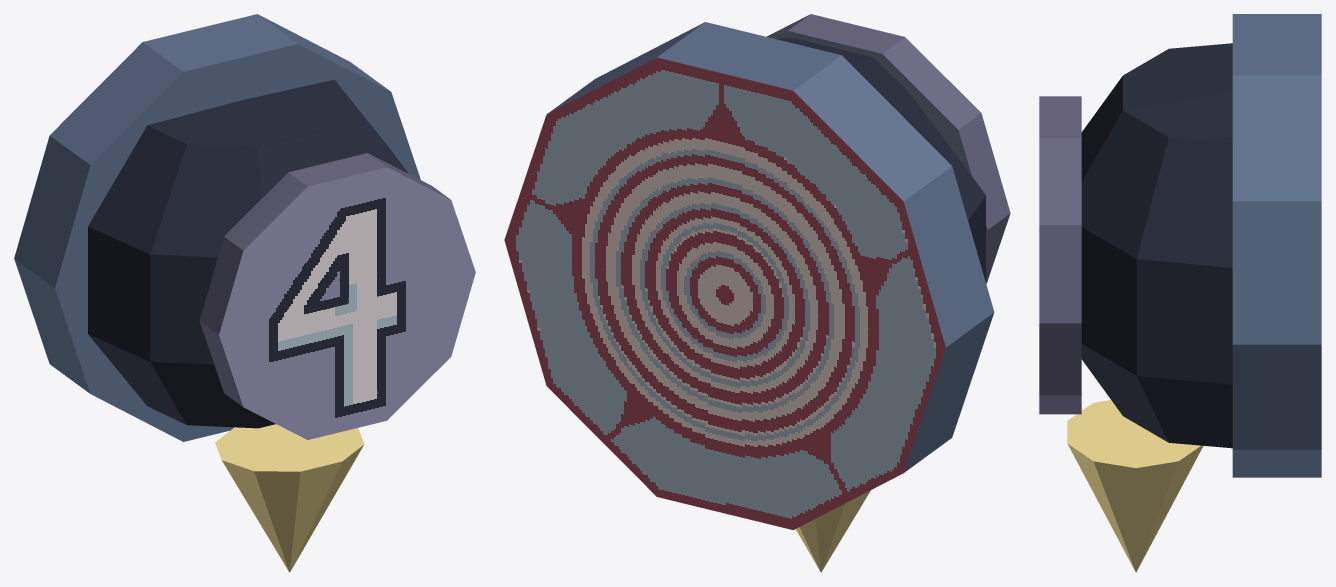
File: ChallengeTarget.gltf
3 renders of one model, left to right at view 1: azimuth 30°, elevation 25°; view 2: azimuth 150°, elevation 25°; view 3: azimuth 270°, elevation 25°, orthographic. The views are drawn at different scales.
Visible parts, largest first — view 1: Target (×2), Back, cone; view 2: Target (×2), Back, cone; view 3: Target (×2), Back, cone.
Boxes of the visible parts, x1,y1,x2,y2 form: Target (×2): (14, 14, 475, 441); Back: (88, 79, 408, 428); cone: (215, 424, 364, 572); Target (×2): (504, 14, 1010, 530); Back: (776, 38, 985, 281); cone: (796, 490, 870, 572); Target (×2): (1039, 14, 1321, 477); Back: (1081, 43, 1232, 448); cone: (1067, 400, 1203, 572).
Size of the model in its own units: 2.63 by 3.27 by 1.59.
Materials: 1 (1 with a texture image).
